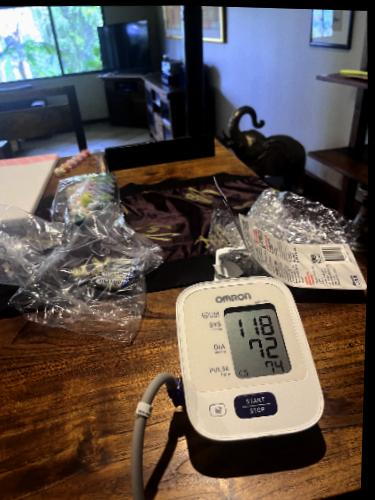bpm: (224, 301, 291, 379)
